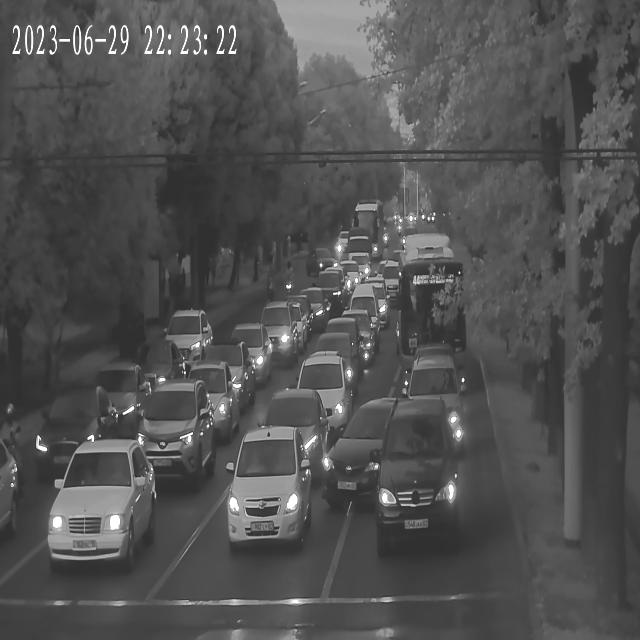Bus: (400, 224, 468, 395), (348, 200, 386, 253)
Car: (50, 440, 157, 569), (374, 402, 462, 540), (223, 430, 312, 550), (125, 384, 214, 484), (241, 394, 330, 486), (389, 363, 461, 462), (278, 353, 356, 435), (34, 395, 117, 468), (167, 361, 240, 436), (89, 360, 157, 431), (184, 345, 256, 407), (400, 352, 466, 411), (251, 302, 309, 360), (164, 312, 218, 368), (220, 326, 271, 384), (307, 332, 368, 380), (334, 308, 382, 358), (342, 295, 389, 345), (408, 343, 462, 385), (0, 427, 16, 543), (288, 290, 332, 330), (309, 269, 350, 306)
